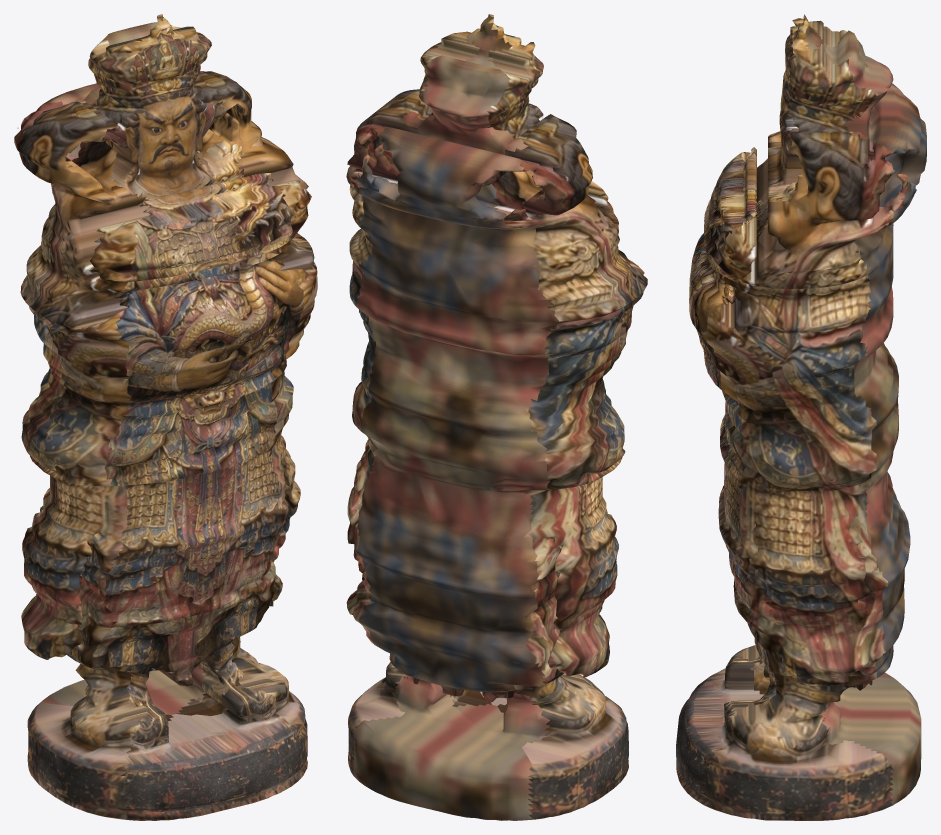
The model's file is west-king.glb.
3 renders of one model, left to right at view 1: azimuth 30°, elevation 25°; view 2: azimuth 150°, elevation 25°; view 3: azimuth 270°, elevation 25°, orthographic.
Parts seen in each view (by area): view 1: west-king; view 2: west-king; view 3: west-king.
Part boxes in pixels (box(x1,y1,x2,y2)): west-king: box(14, 14, 317, 820); west-king: box(346, 14, 647, 820); west-king: box(676, 14, 926, 820).
Bounding box in the file's own units: 0.3714 × 1 × 0.304.
Materials: 1 (1 with a texture image).
